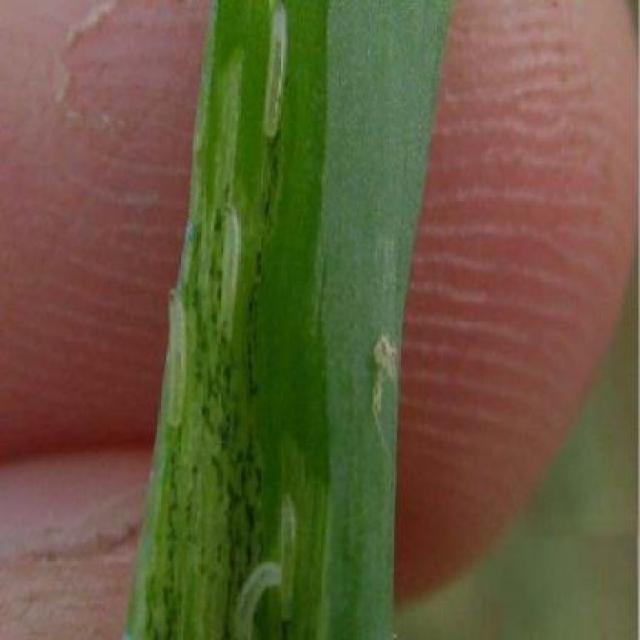whorl-maggot: (160, 277, 191, 428), (262, 0, 292, 142), (236, 554, 284, 640), (214, 202, 241, 346), (277, 489, 305, 623)
